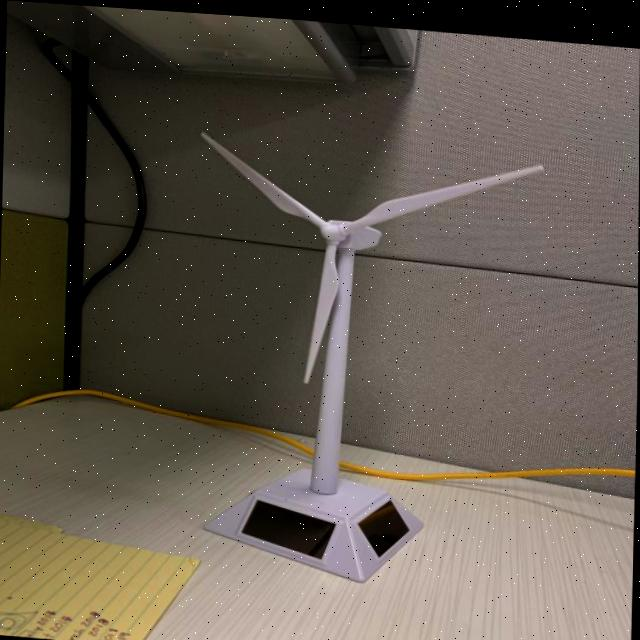solid-blade: (344, 159, 543, 228), (201, 129, 325, 220), (304, 239, 337, 377)
